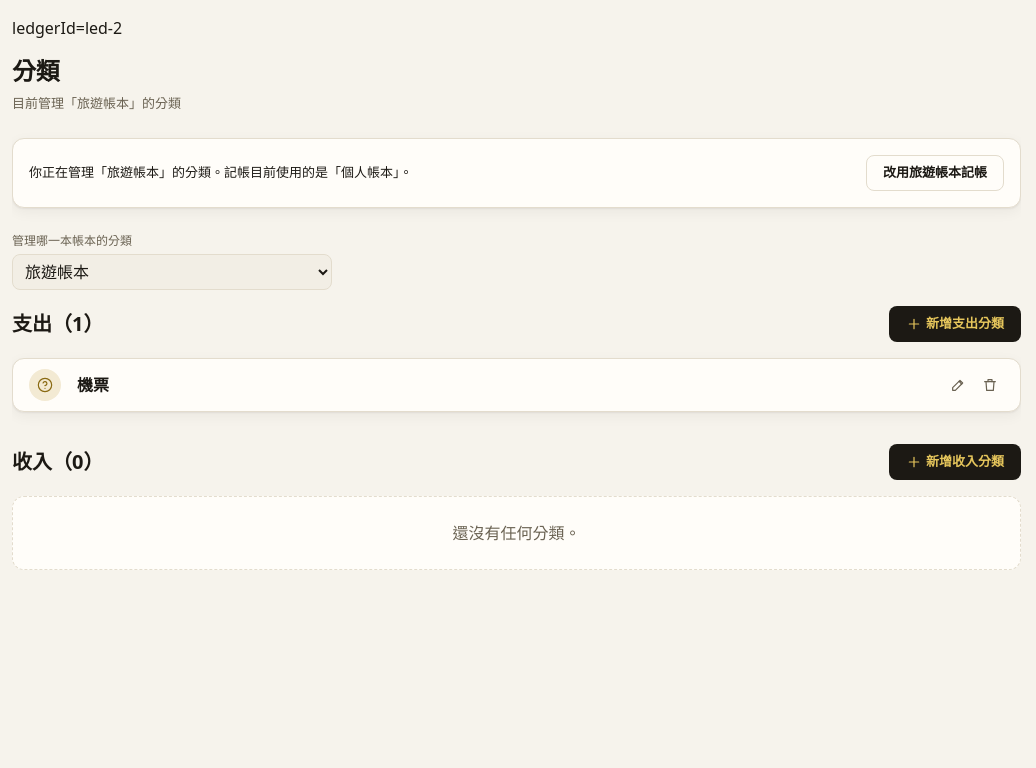
Test case: Categories page › shows the mismatch banner and dismisses it after syncing
The width and height of the screenshot is (1036, 768).
Expected: the text "你正在管理「旅遊帳本」的分類。記帳目前使用的是「個人帳本」。" is shown, [29,163,413,182]
Click the button "改用旅遊帳本記帳" at (935, 172), box [866,154,1004,190]
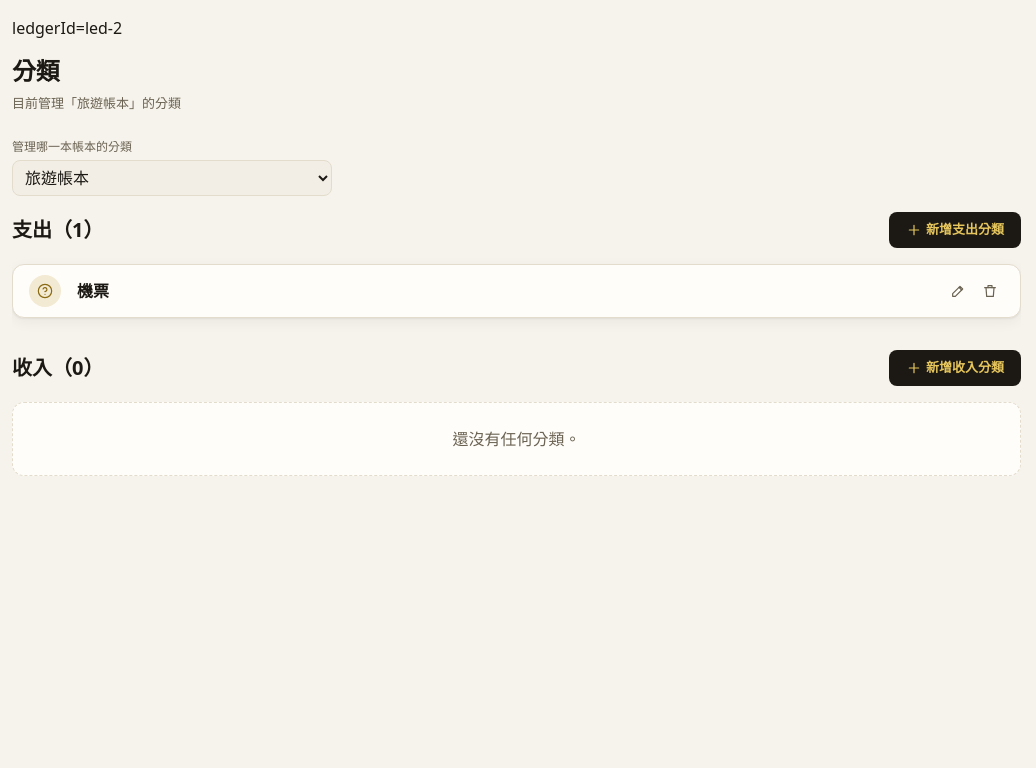
Expected: the text "你正在管理" is gone
